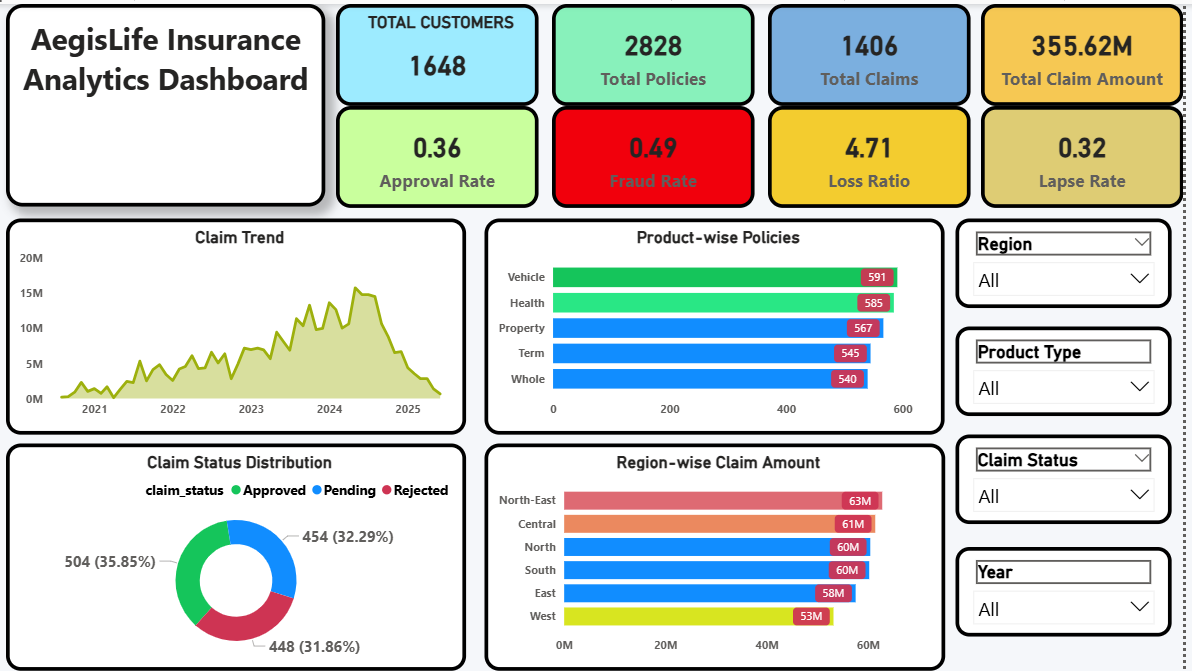

What the dashboard file says about the page in this screenshot:
{"tool":"powerbi","page":{"name":"Executive Dashboard","canvas":[1280,720],"ordinal":0},"visuals":[{"type":"textbox","box":[9.7,0,344.9,218.6],"z":0},{"type":"card","title":"TOTAL CUSTOMERS","fields":{"Values":["Count(aegislifedb policy_details.customer_id)"]},"box":[365.9,0,218.6,110.1],"z":1000},{"type":"card","fields":{"Values":["aegislifedb policy_details.Total Policies"]},"box":[599.1,0,218.6,110.1],"z":2000},{"type":"card","fields":{"Values":["aegislifedb claim_history.Total Claims"]},"box":[832.3,0,218.6,110.1],"z":3000},{"type":"card","fields":{"Values":["aegislifedb claim_history.Total Claim Amount"]},"box":[1062.2,0,218.6,110.1],"z":4000},{"type":"card","fields":{"Values":["aegislifedb claim_history.Approval Rate"]},"box":[365.9,110.1,218.6,110.1],"z":5000},{"type":"card","fields":{"Values":["aegislifedb claim_history.Fraud Rate"]},"box":[599.1,110.1,218.6,110.1],"z":6000},{"type":"card","fields":{"Values":["aegislifedb claim_history.Loss Ratio"]},"box":[832.3,110.1,218.6,110.1],"z":7000},{"type":"card","fields":{"Values":["aegislifedb claim_history.Lapse Rate"]},"box":[1062.2,110.1,218.6,110.1],"z":8000},{"type":"lineChart","title":"Claim Trend","fields":{"Y":["aegislifedb claim_history.Total Claim Amount"],"Category":["aegislifedb claim_history.claim_date.Variation.Date Hierarchy.Year","aegislifedb claim_history.claim_date.Variation.Date Hierarchy.Month"]},"box":[10,231.7,496.7,233.3],"z":9000},{"type":"clusteredBarChart","title":"Product-wise Policies","fields":{"Category":["aegislifedb policy_details.product_type"],"Y":["aegislifedb policy_details.Total Policies"]},"box":[526.7,231.7,496.7,233.3],"z":10000},{"type":"donutChart","title":"Claim Status Distribution","fields":{"Category":["aegislifedb claim_history.claim_status"],"Y":["aegislifedb claim_history.Total Claims"]},"box":[10,475,496.7,245],"z":11000},{"type":"clusteredBarChart","title":"Region-wise Claim Amount","fields":{"Y":["aegislifedb claim_history.Total Claim Amount"],"Category":["aegislifedb agent_info.region"]},"box":[527,475,497,245],"z":12000},{"type":"slicer","fields":{"Values":["aegislifedb agent_info.region"]},"box":[1035,231.7,233.3,96.7],"z":13000},{"type":"slicer","fields":{"Values":["aegislifedb policy_details.product_type"]},"box":[1035,348.3,233.3,96.7],"z":14000},{"type":"slicer","fields":{"Values":["aegislifedb claim_history.claim_status"]},"box":[1035,465,233.3,96.7],"z":15000},{"type":"slicer","fields":{"Values":["aegislifedb claim_history.claim_date.Variation.Date Hierarchy.Year"]},"box":[1035,586.7,233.3,96.7],"z":16000}]}

Visuals, with their boxes in screenshot pixels (x1, y1, x2, y2), scaled from the page's 1280x720 canvas onto the 1192x671 screenshot:
textbox: locate(9, 0, 330, 204)
"TOTAL CUSTOMERS" card: locate(341, 0, 544, 103)
card - aegislifedb policy_details.Total Policies: locate(558, 0, 761, 103)
card - aegislifedb claim_history.Total Claims: locate(775, 0, 979, 103)
card - aegislifedb claim_history.Total Claim Amount: locate(989, 0, 1191, 103)
card - aegislifedb claim_history.Approval Rate: locate(341, 103, 544, 205)
card - aegislifedb claim_history.Fraud Rate: locate(558, 103, 761, 205)
card - aegislifedb claim_history.Loss Ratio: locate(775, 103, 979, 205)
card - aegislifedb claim_history.Lapse Rate: locate(989, 103, 1191, 205)
"Claim Trend" lineChart: locate(9, 216, 472, 433)
"Product-wise Policies" clusteredBarChart: locate(490, 216, 953, 433)
"Claim Status Distribution" donutChart: locate(9, 443, 472, 670)
"Region-wise Claim Amount" clusteredBarChart: locate(491, 443, 954, 670)
slicer - aegislifedb agent_info.region: locate(964, 216, 1181, 306)
slicer - aegislifedb policy_details.product_type: locate(964, 325, 1181, 415)
slicer - aegislifedb claim_history.claim_status: locate(964, 433, 1181, 523)
slicer - aegislifedb claim_history.claim_date.Variation.Date Hierarchy.Year: locate(964, 547, 1181, 637)
